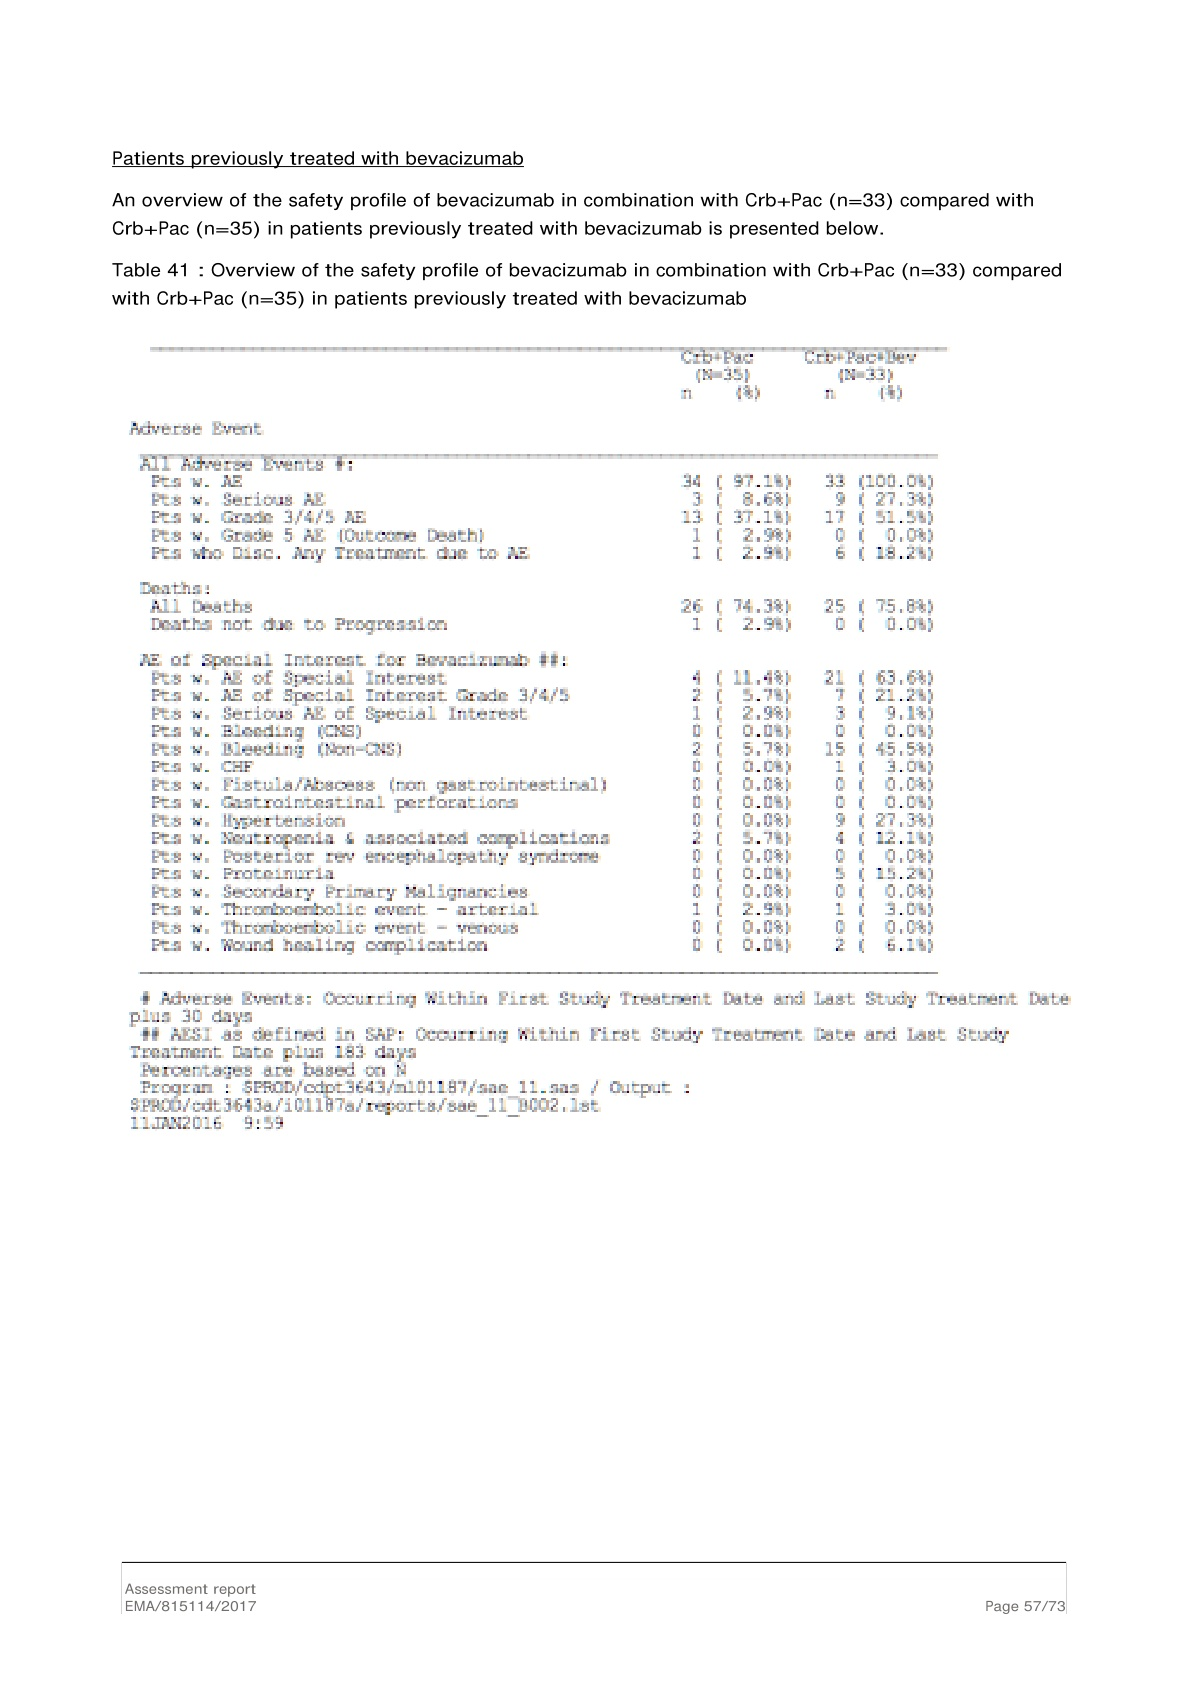partial_lined_merged_cells: (133, 345, 941, 976)
